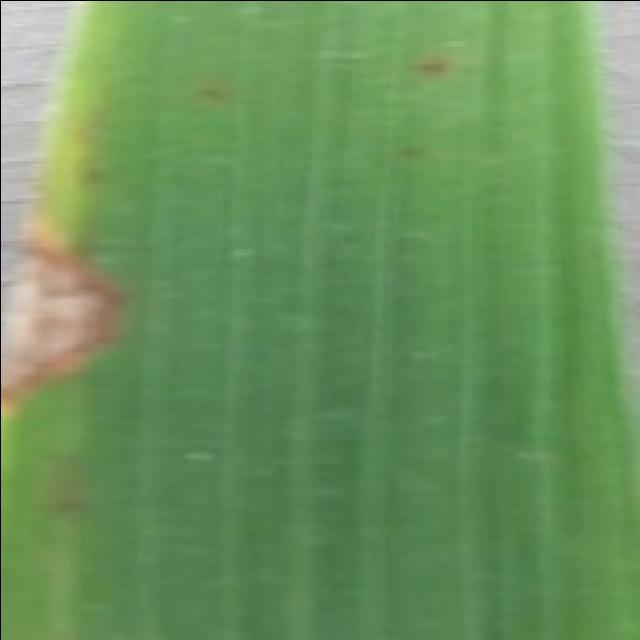Unhealthy: (0, 206, 126, 420), (191, 82, 231, 106), (416, 56, 452, 75), (84, 168, 107, 187)
